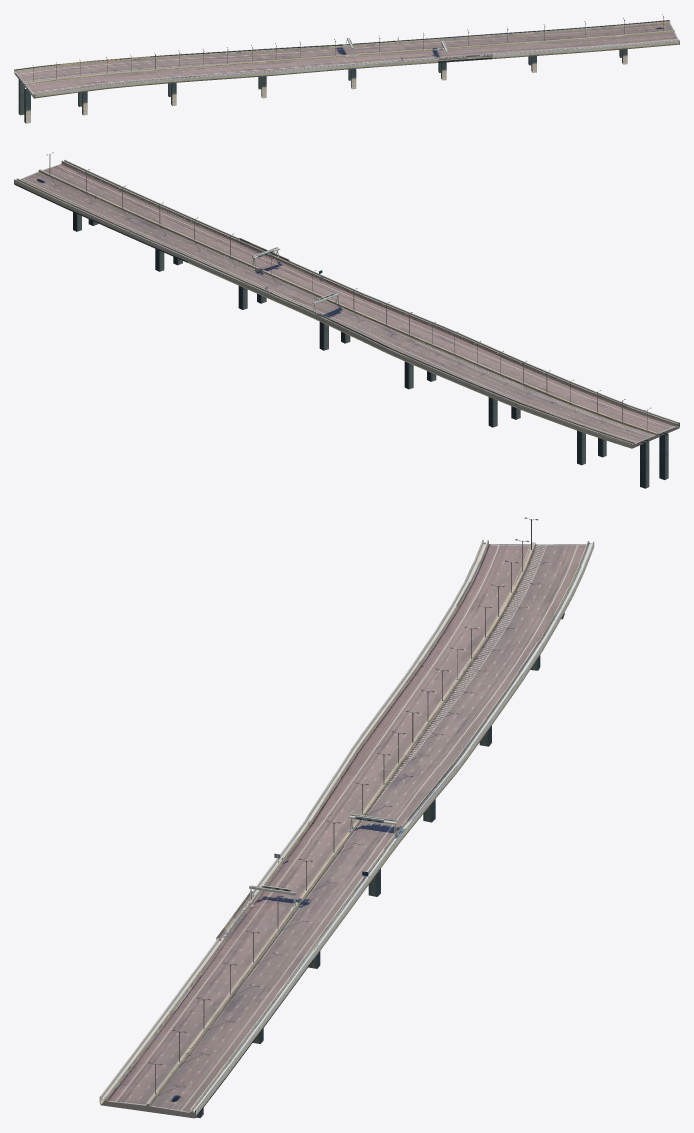
Rendered from roads_context_03.glb.
3 renders of one model, top to bottom at view 1: azimuth 30°, elevation 25°; view 2: azimuth 150°, elevation 25°; view 3: azimuth 270°, elevation 25°, orthographic. The views are drawn at different scales.
Visible parts, largest first — view 1: I094191723907063A0.001; view 2: I094191723907063A0.001; view 3: I094191723907063A0.001.
Boxes of the visible parts, x1=… form: I094191723907063A0.001: x1=14, y1=14, x2=679, y2=123; I094191723907063A0.001: x1=14, y1=152, x2=679, y2=488; I094191723907063A0.001: x1=99, y1=517, x2=594, y2=1118.
Size of the model in its own units: 458 by 40.59 by 174.
2 materials, 2 textured.
